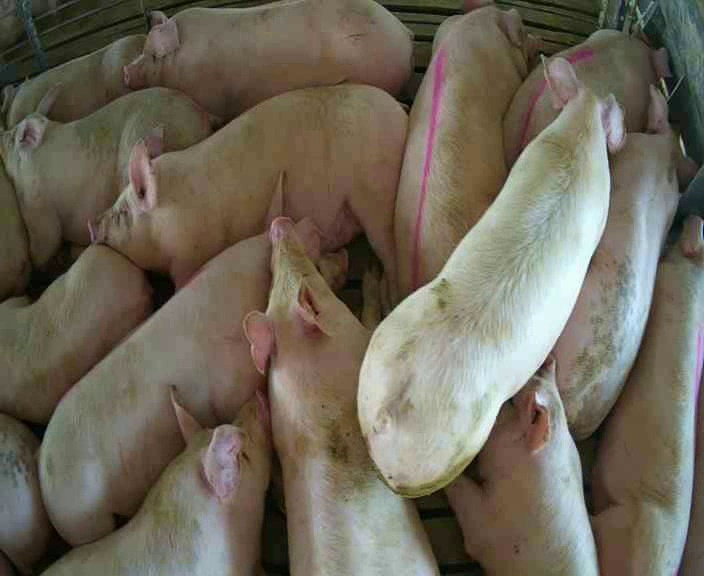pig: (359, 54, 621, 495), (90, 84, 406, 314), (244, 217, 436, 574), (553, 84, 696, 438), (44, 390, 270, 574), (395, 6, 538, 295), (593, 217, 703, 574), (0, 83, 210, 265), (125, 2, 411, 119), (447, 358, 597, 574), (0, 244, 151, 422), (1, 34, 145, 127)
